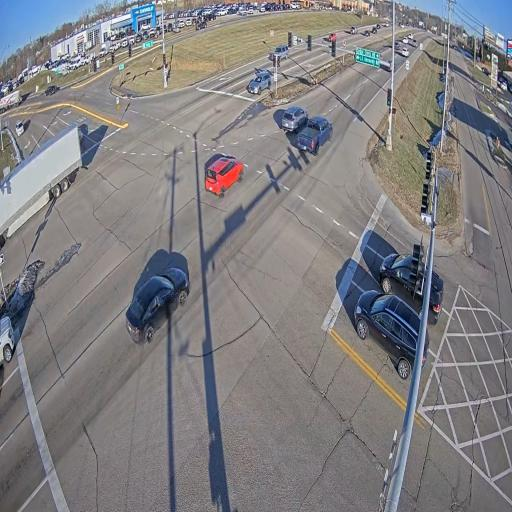pickup: (297, 116, 332, 155), (350, 26, 357, 34), (412, 39, 418, 47)
sedan: (126, 266, 189, 341), (363, 30, 370, 36)
suv: (354, 290, 421, 380), (205, 155, 243, 197), (281, 106, 308, 132), (249, 70, 272, 95), (274, 45, 288, 60), (45, 85, 56, 96), (16, 121, 24, 136), (195, 21, 207, 30), (329, 33, 336, 41), (394, 41, 400, 50), (371, 27, 377, 33), (376, 23, 381, 29), (408, 33, 413, 38), (384, 23, 389, 27)
truck: (0, 122, 82, 252), (0, 90, 22, 113)
van: (379, 253, 424, 316), (428, 271, 443, 324), (401, 47, 409, 57), (402, 37, 408, 44)
